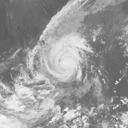cyclone: (47, 36, 83, 83)
